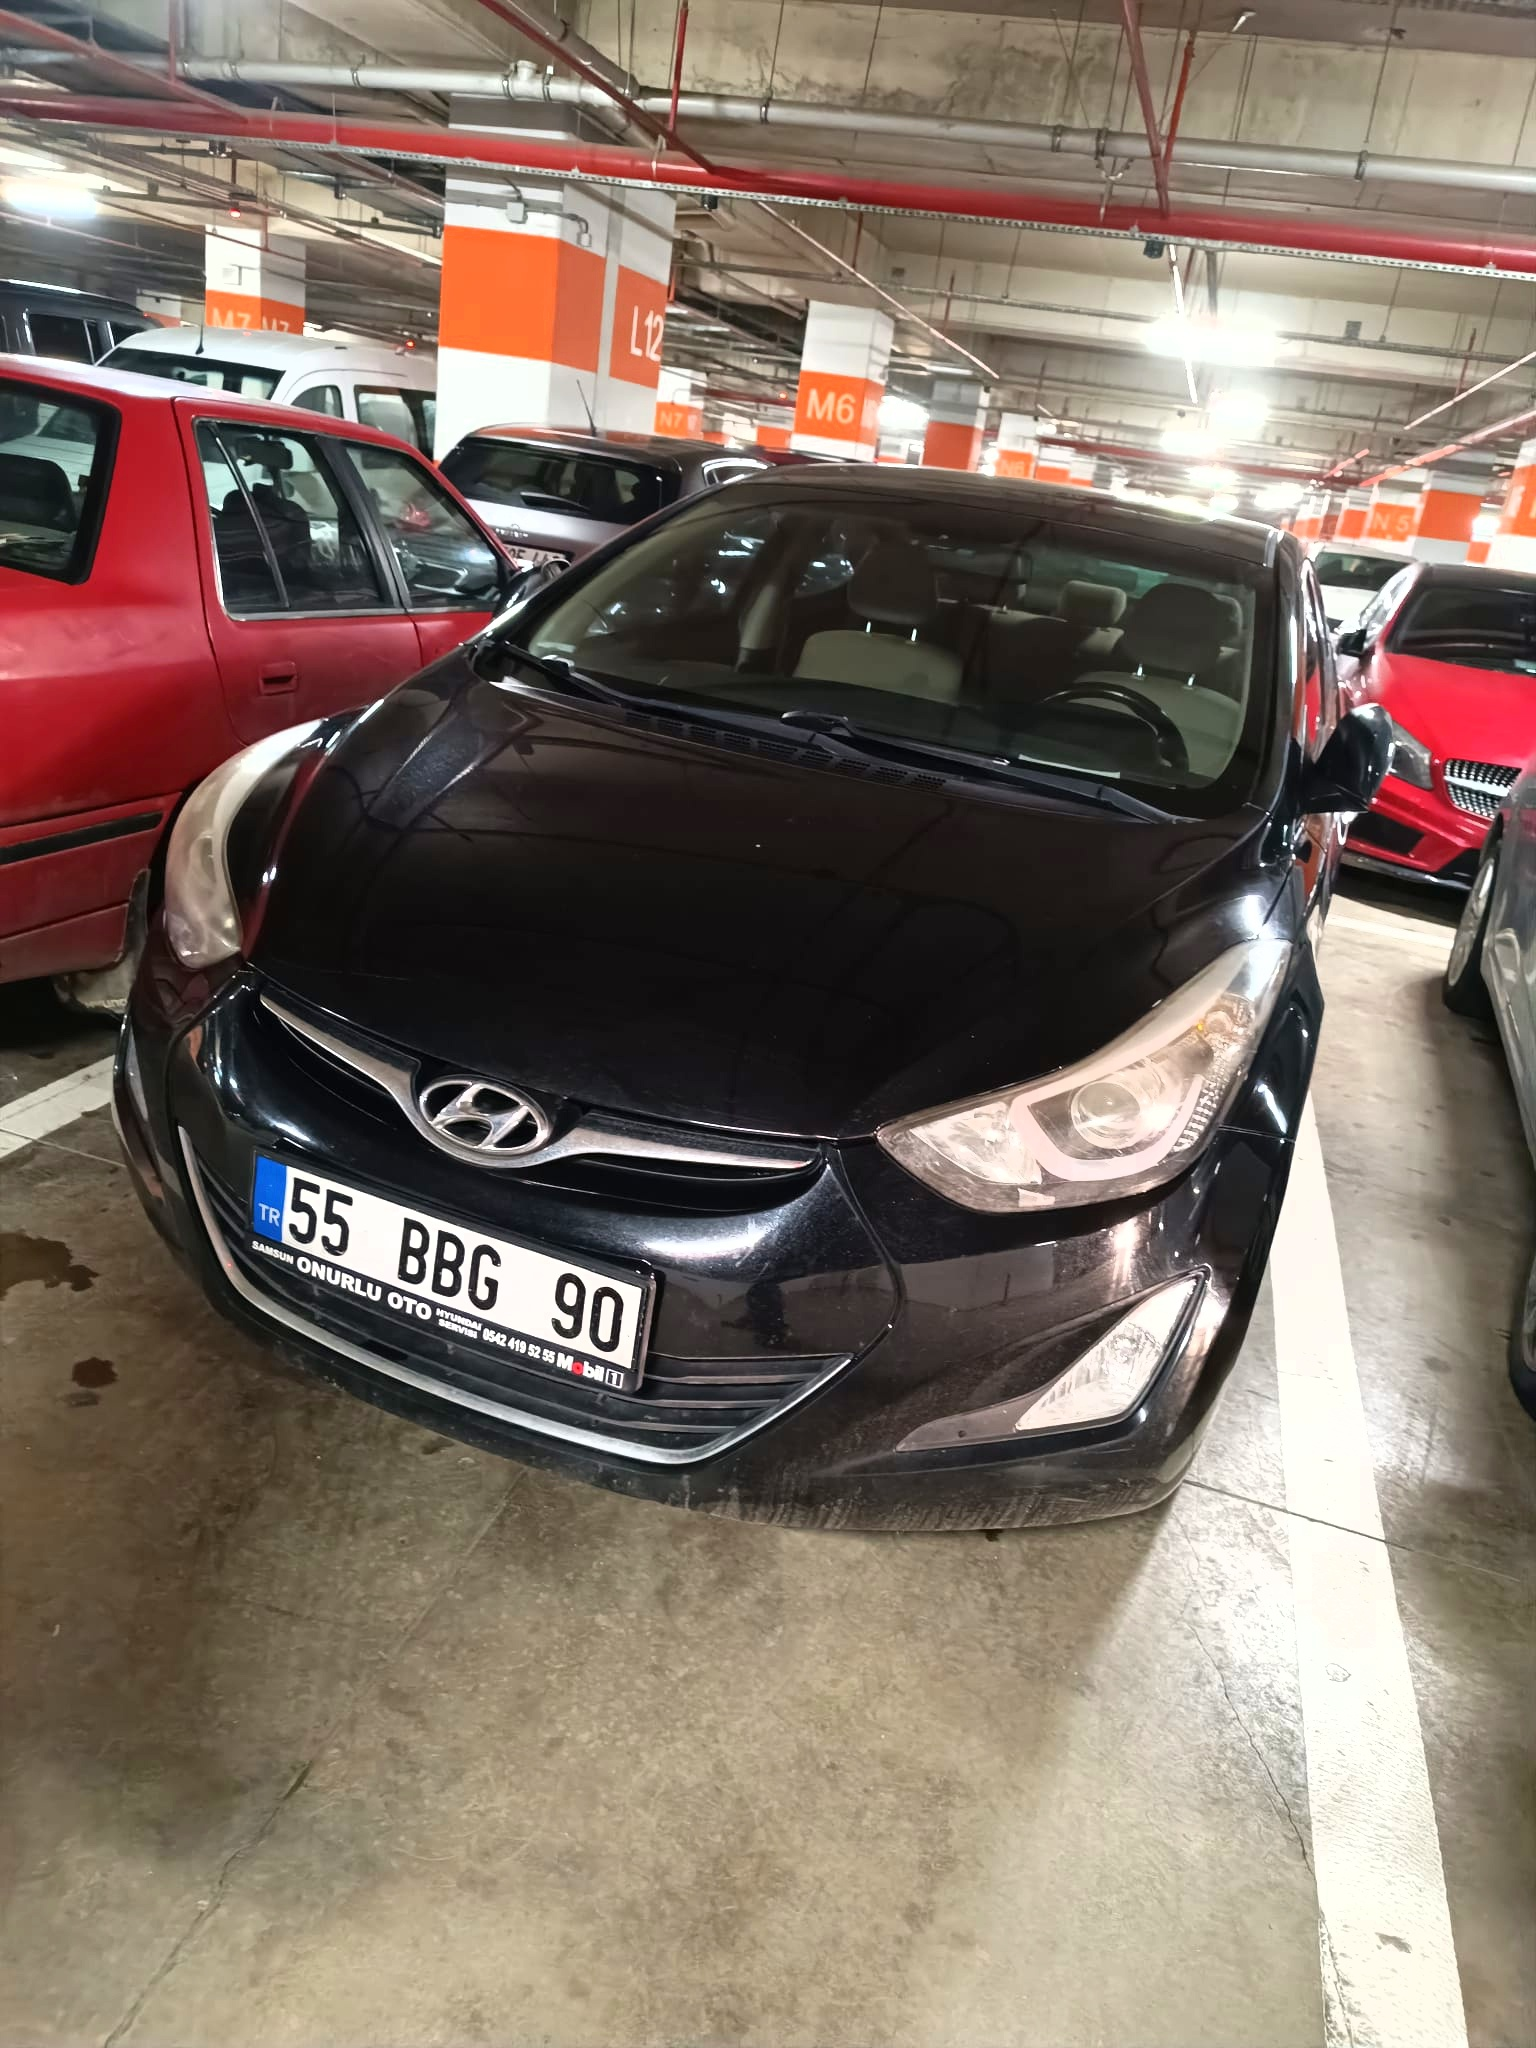plaka: (285, 1152, 649, 1381)
